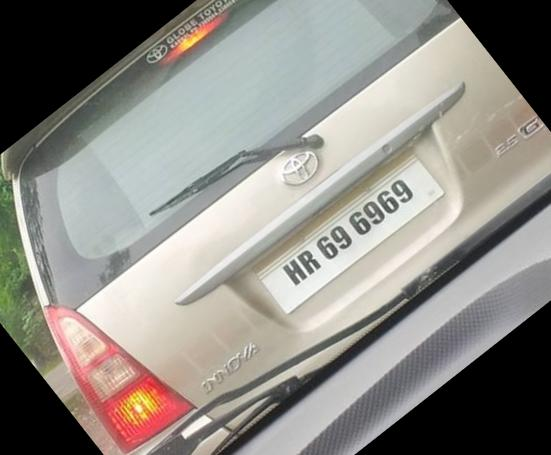plate: (245, 133, 462, 325)
